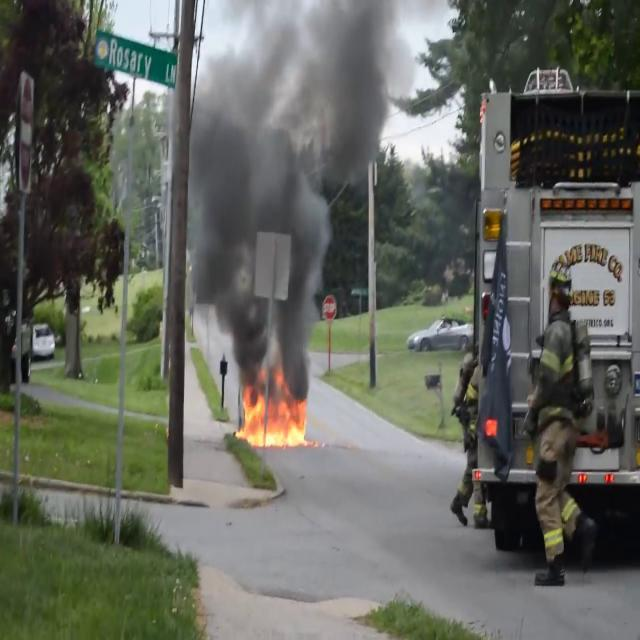Fire: (238, 375, 312, 453)
Smoke: (168, 1, 400, 373)
